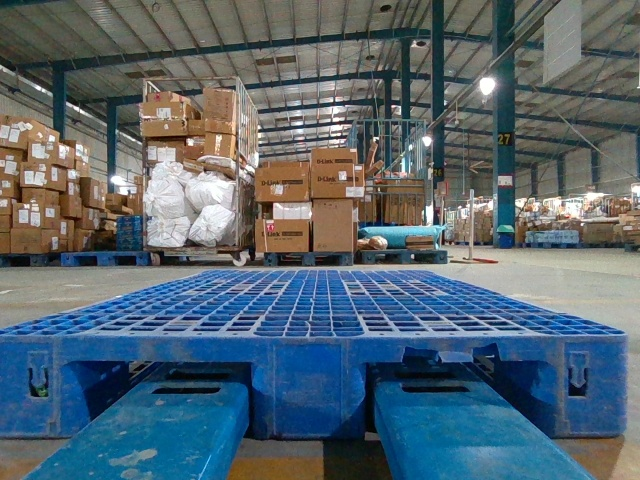block: (252, 333, 367, 441), (0, 333, 80, 438), (549, 335, 623, 438)
front: (2, 334, 629, 435)
hole pallet: (359, 356, 562, 446), (67, 353, 268, 437)
